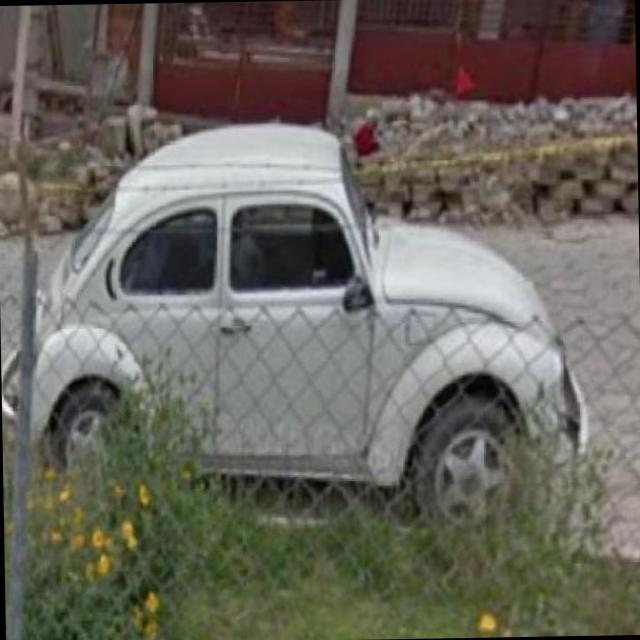car: (10, 152, 598, 542)
